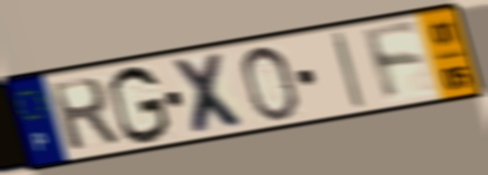F: (359, 19, 429, 106)
G: (106, 64, 173, 147)
I: (329, 28, 369, 113)
O: (238, 43, 302, 124)
R: (46, 75, 124, 155)
X: (168, 50, 252, 137)
